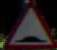Speed Breaker ahead: (8, 7, 49, 45)
